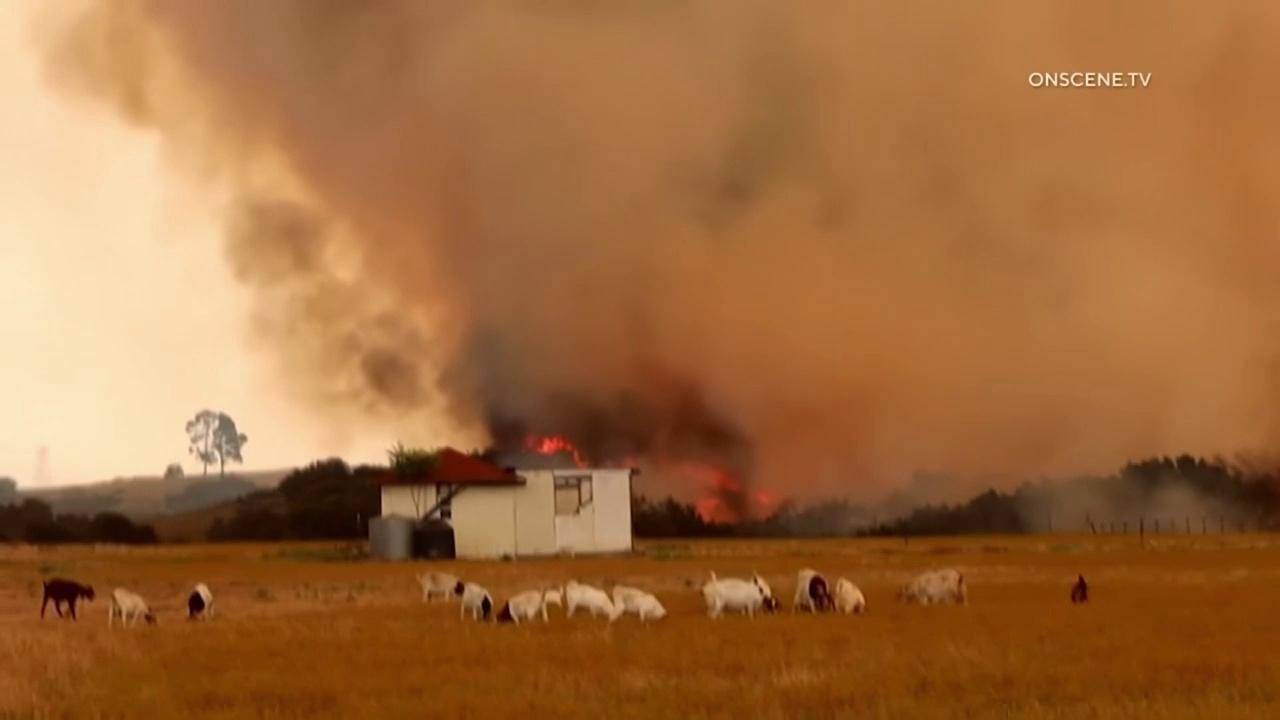fire: (523, 434, 588, 468), (684, 465, 741, 491), (694, 496, 741, 526), (752, 489, 771, 503), (624, 457, 638, 469)
smoke: (43, 0, 1280, 535)
